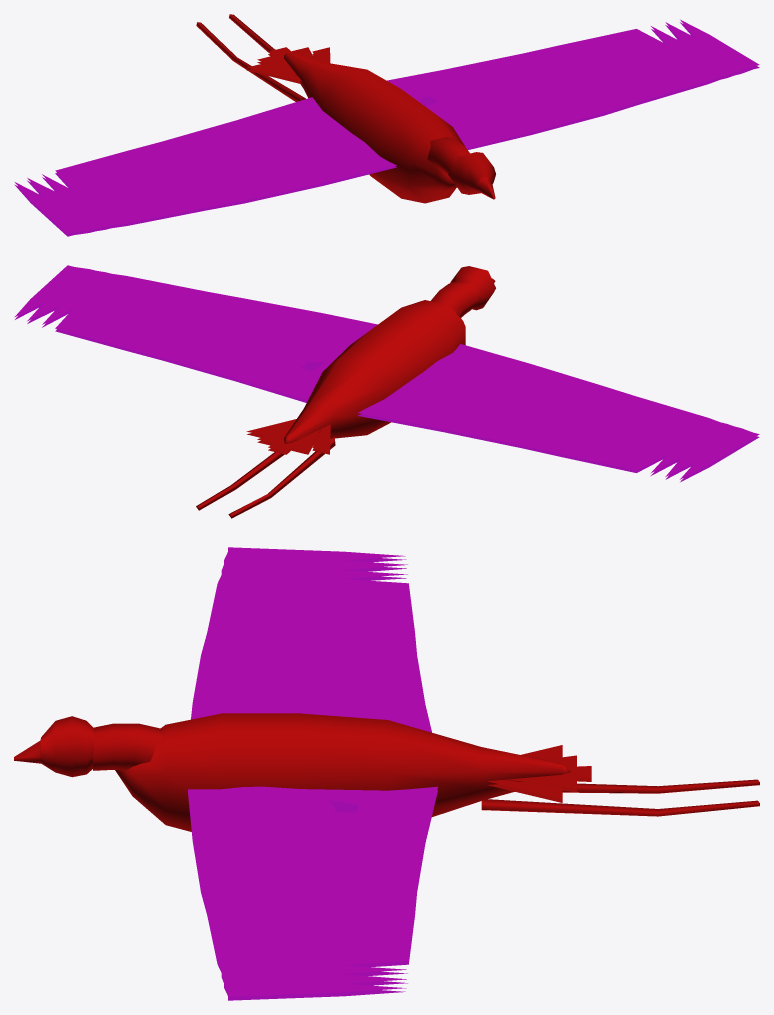
Rendered from stork.glb.
3 views of the same model, one above another, from view 1: azimuth 30°, elevation 25°; view 2: azimuth 150°, elevation 25°; view 3: azimuth 270°, elevation 25° (orthographic). The views are drawn at different scales.
Parts seen in each view (by area): view 1: bird; view 2: bird; view 3: bird.
Part boxes in pixels (x1,y1,x2,y2): bird: (14, 14, 759, 236); bird: (14, 265, 759, 518); bird: (14, 547, 759, 1000).
Bounding box in the file's own units: 2 × 0.2227 × 1.4.
